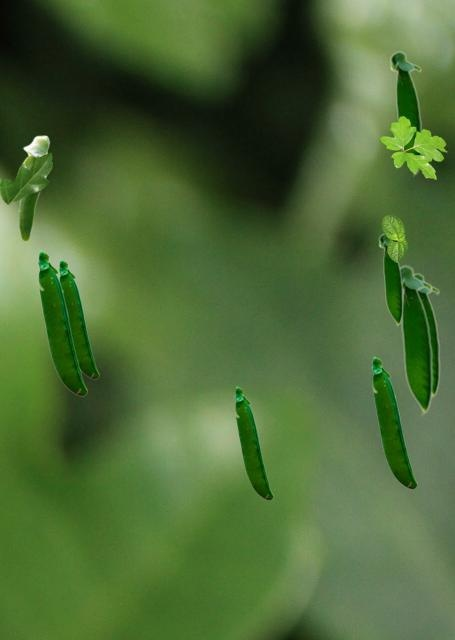pea: (37, 250, 86, 395), (371, 356, 416, 488), (399, 264, 432, 415), (58, 259, 98, 378), (234, 386, 272, 499), (389, 50, 421, 176), (18, 135, 49, 241), (415, 272, 439, 398), (378, 233, 402, 326)
